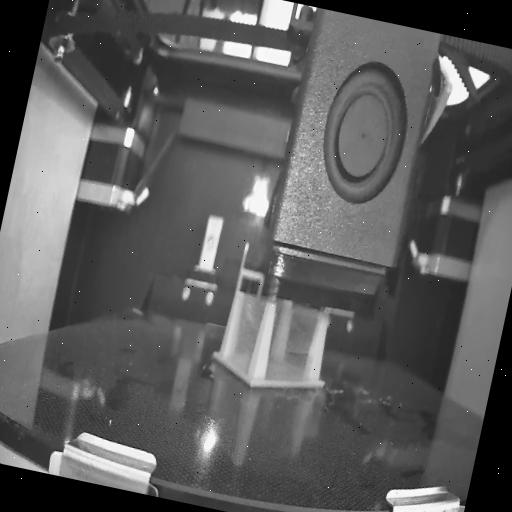stringing: (260, 300, 326, 394), (222, 294, 265, 372)
